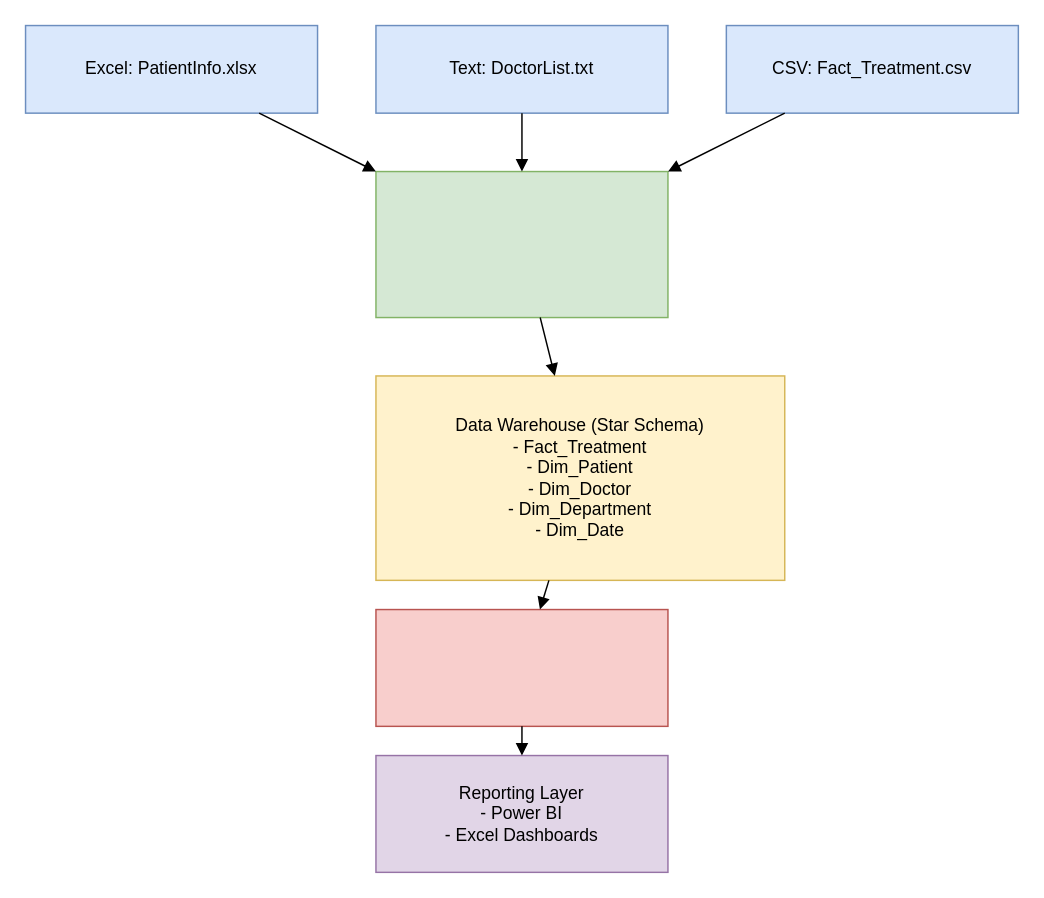
The diagram is 1044 pixels wide and 898 high, and some of its shapes have lost their labels. Each missing label, with the centre of its shape:
ETL Layer (SSIS) - Cleansing - Lookups - SCD Handling: pixel 521 244
SSAS Cube - KPIs - Hierarchies - Aggregates: pixel 521 667
